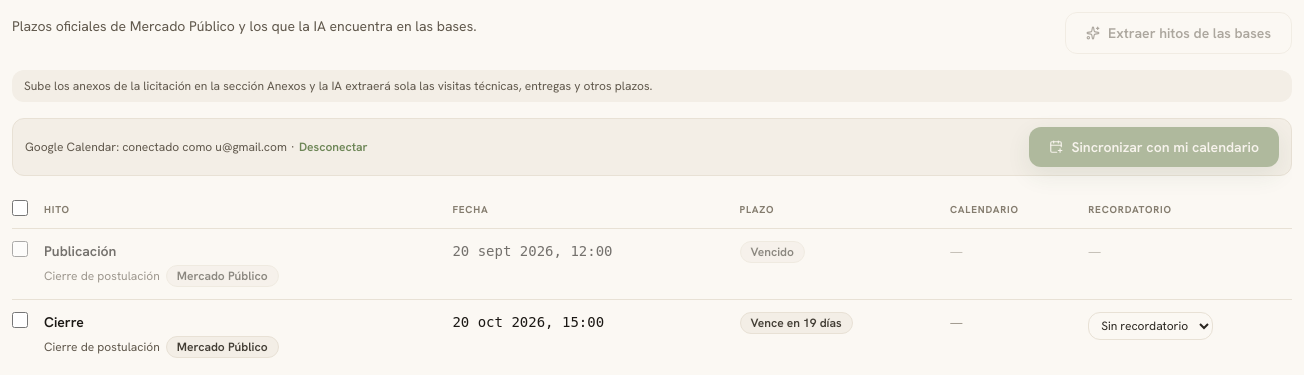
MilestonesSection › sincronización con Google Calendar › seleccionar todos elige solo los hitos que no vencieron
The image size is (1304, 375).
Expected: the text "Google Calendar: conectado como u@gmail.com" is shown, [25, 139, 287, 155]
Click the checkbox named "seleccionar todos": point(20, 208) [12, 200, 28, 216]
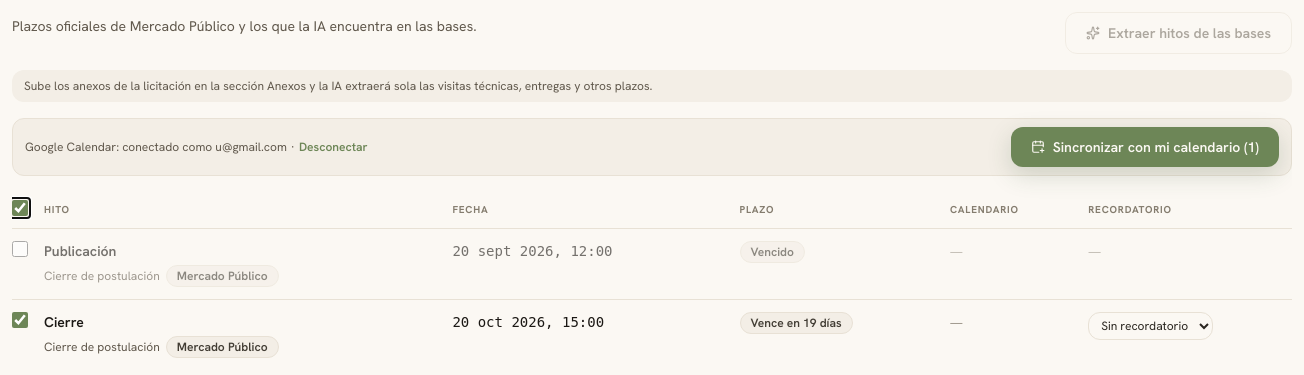
Expected: the checkbox named "Seleccionar Publicación" is not checked, [12, 241, 28, 257]
Now the checkbox named "Seleccionar Cierre" is checked, box [12, 312, 28, 328]
